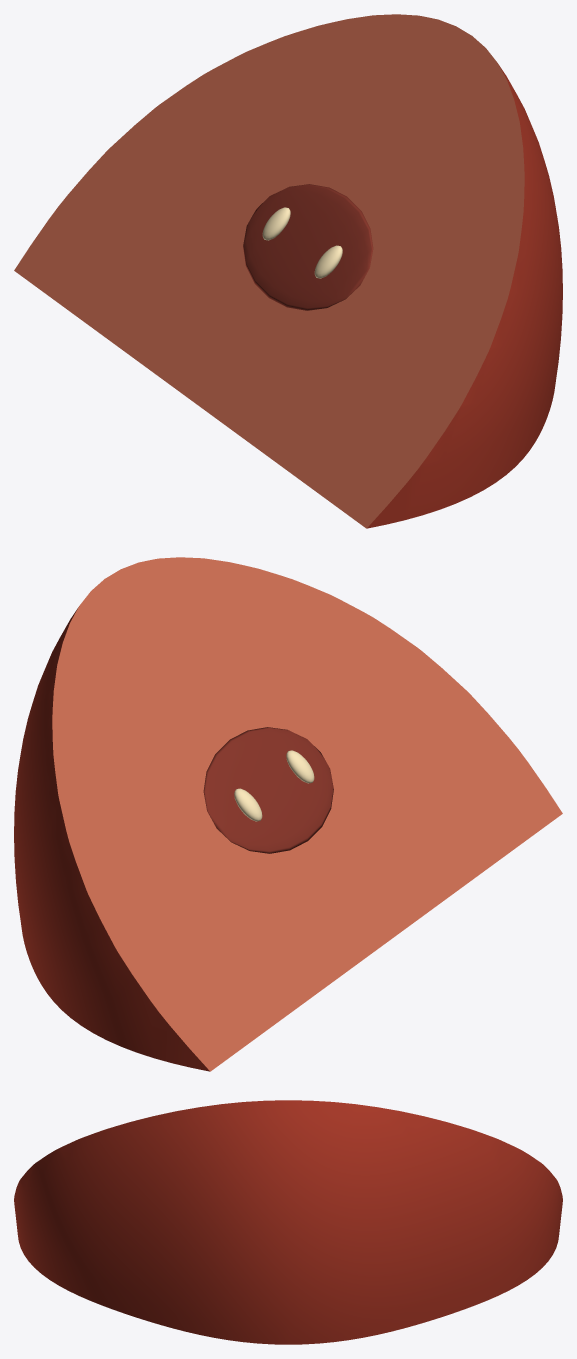
The model's file is plum_chunk.glb.
3 renders of one model, top to bottom at view 1: azimuth 30°, elevation 25°; view 2: azimuth 150°, elevation 25°; view 3: azimuth 270°, elevation 25°, orthographic. The views are drawn at different scales.
Visible parts, largest first — view 1: Prepared Plum half, Fresh diagonal Plum gallery, Fresh diagonal Plum seed; view 2: Prepared Plum half, Fresh diagonal Plum gallery, Fresh diagonal Plum seed; view 3: Prepared Plum half.
Boxes of the visible parts, <box> form: Prepared Plum half: <box>14,14,562,528</box>; Fresh diagonal Plum gallery: <box>243,184,373,310</box>; Fresh diagonal Plum seed: <box>262,207,342,278</box>; Prepared Plum half: <box>14,557,562,1071</box>; Fresh diagonal Plum gallery: <box>203,727,333,853</box>; Fresh diagonal Plum seed: <box>234,750,314,821</box>; Prepared Plum half: <box>14,1100,562,1344</box>.
Bounding box in the file's own units: 0.4891 × 0.4063 × 0.897.
